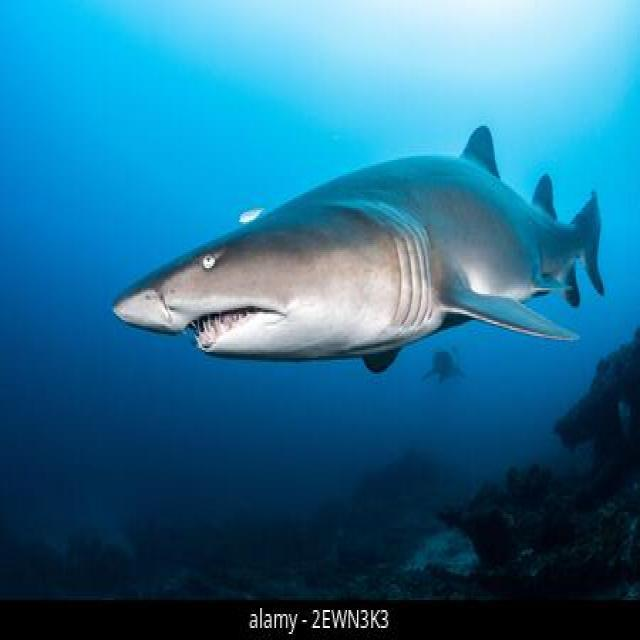Shark: (91, 100, 630, 380)
